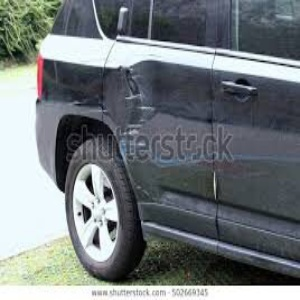door: (108, 57, 205, 124)
